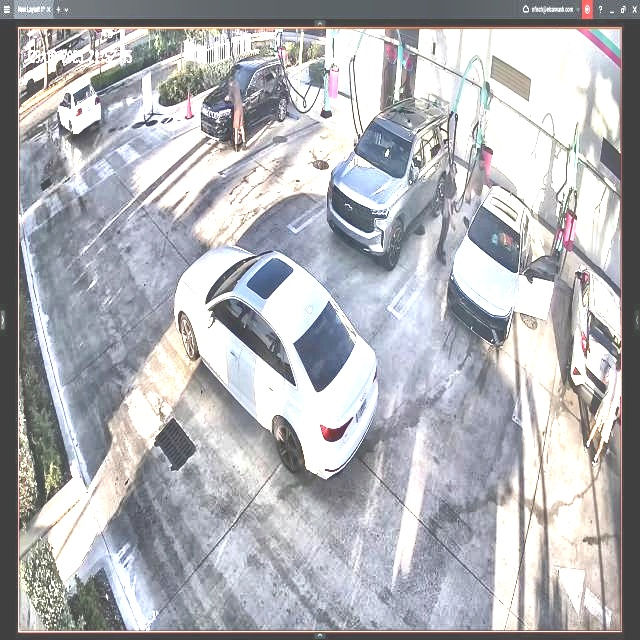Car: (173, 243, 378, 482), (325, 99, 454, 265), (445, 186, 555, 344), (203, 58, 292, 149)
